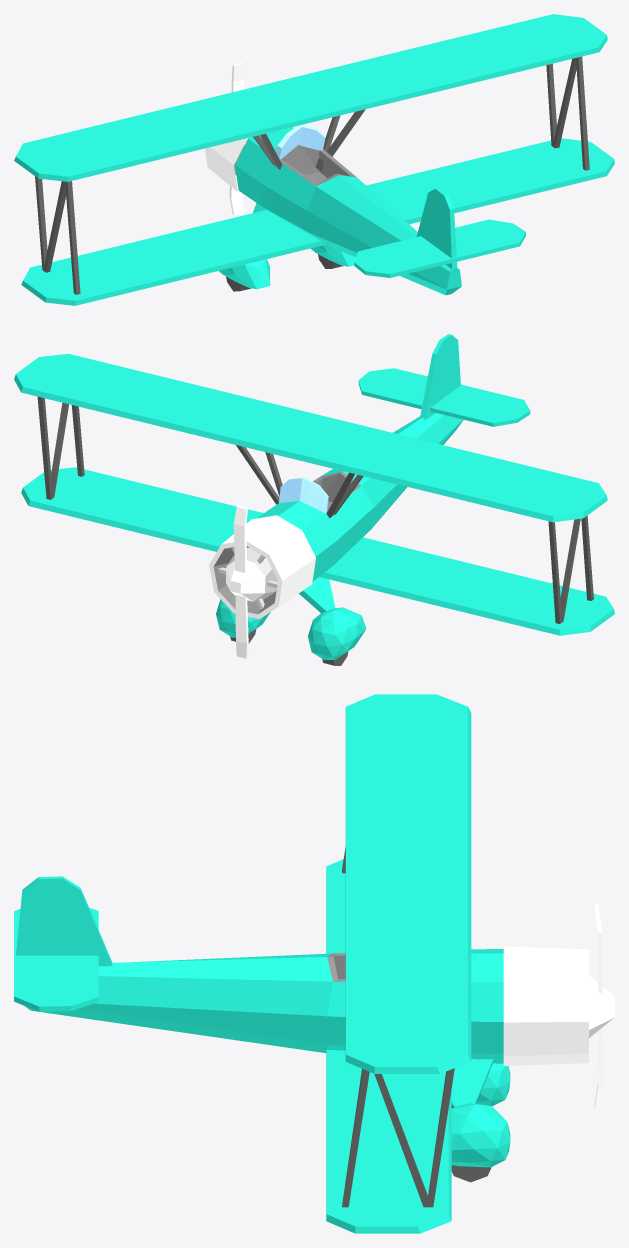
File: transport_air.007.glb
3 renders of one model, top to bottom at view 1: azimuth 30°, elevation 25°; view 2: azimuth 150°, elevation 25°; view 3: azimuth 270°, elevation 25°, orthographic. The views are drawn at different scales.
Parts seen in each view (by area): view 1: transport_air.007(Clone); view 2: transport_air.007(Clone); view 3: transport_air.007(Clone).
Part boxes in pixels (x1,y1,x2,y2): transport_air.007(Clone): [14, 14, 614, 305]; transport_air.007(Clone): [14, 334, 614, 665]; transport_air.007(Clone): [14, 694, 614, 1233].
Size of the model in its own units: 10.04 by 3.4 by 6.83.
1 material, 1 textured.
